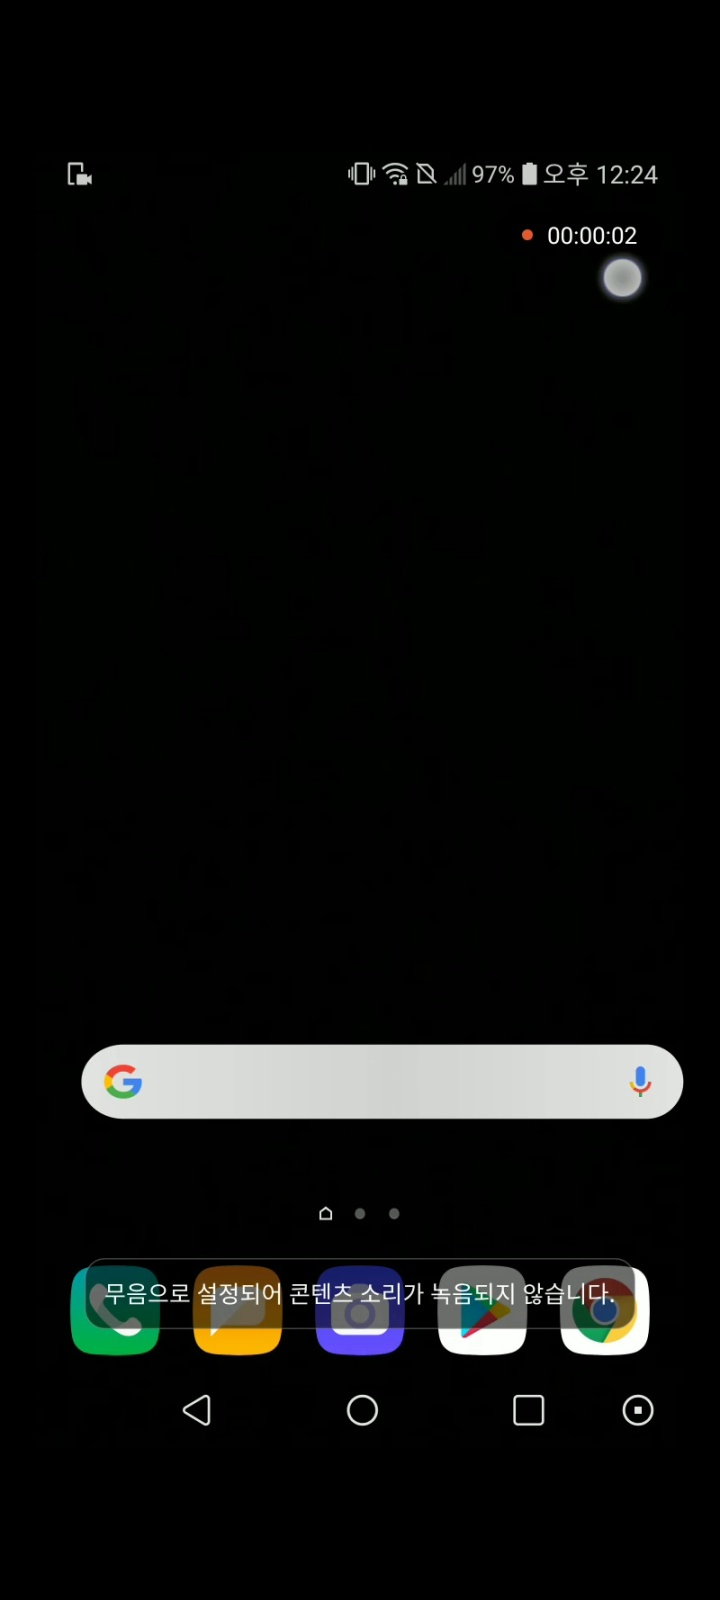Cursor: (601, 258, 646, 303)
